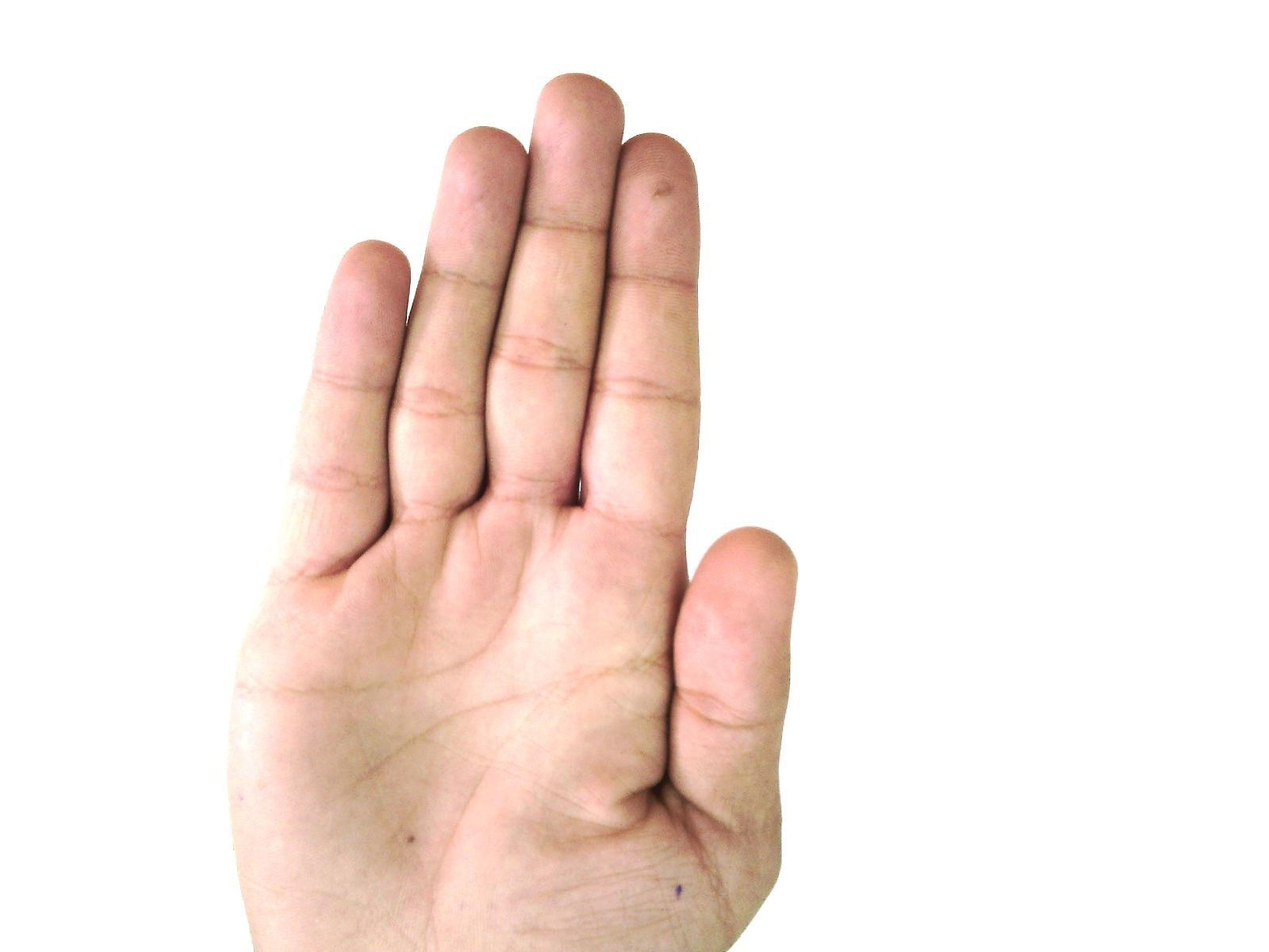open_palm: (224, 71, 802, 951)
